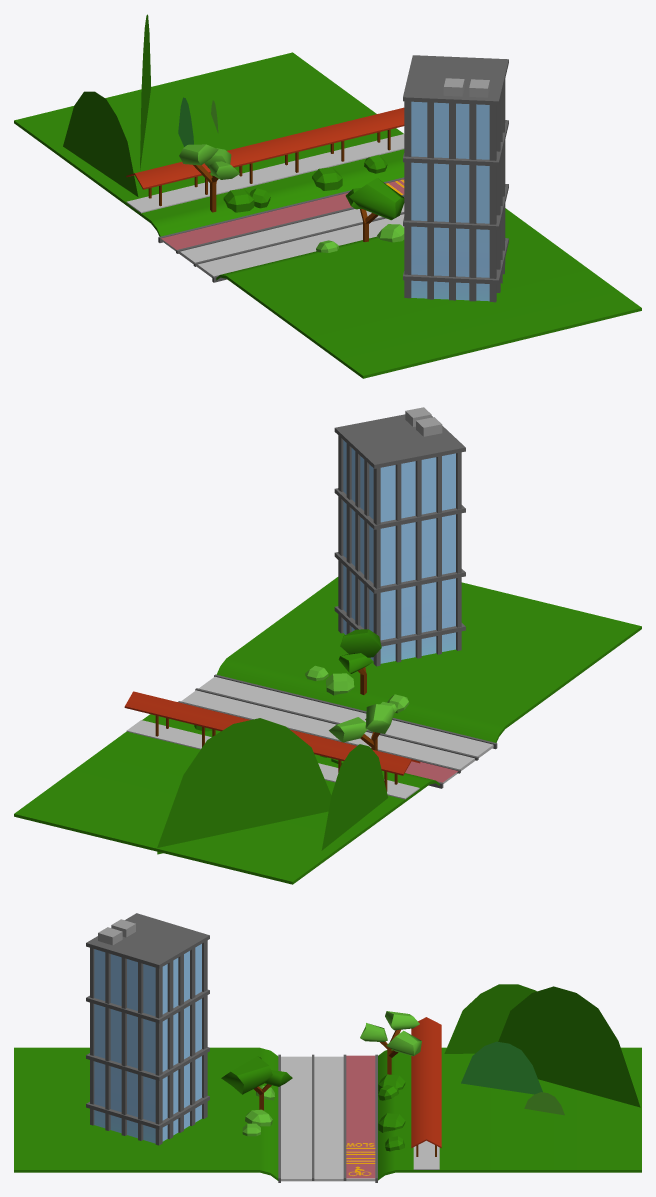
Rendered from Level 3 Chunk 6.fbx.
The picture shows the model from 3 angles, top to bottom: view 1: azimuth 30°, elevation 25°; view 2: azimuth 150°, elevation 25°; view 3: azimuth 270°, elevation 25°; orthographic projection. The views are drawn at different scales.
Visible parts, largest first — view 1: pCube7978, pCube7975, Building_A25, pCube7977, pCube7980, pasted__pCube5673, pCube7963, pCube7952, pCube7943, pCube7944, pasted__pasted__pCube5555, Bushes190 (+5 smaller); view 2: pCube7978, Building_A25, pCube7975, pasted__pasted__pCube5555, pCube7977, pasted__pCube5673, pCube7980, pCube7963, pCube7944, pCube7943, pCube7974, pCube7976; view 3: Building_A25, pCube7978, pCube7975, pasted__pasted__pCube5555, pCube7977, pCube7952, pCube7980, pasted__pCube5673, pasted__pasted__pCube5554, pCube7944, pCube7943, pCube7963 (+3 smaller).
Part boxes in pixels (<box>): pCube7978: <box>216,208,641,378</box>; pCube7975: <box>14,52,404,236</box>; Building_A25: <box>403,55,508,302</box>; pCube7977: <box>162,203,404,277</box>; pCube7980: <box>126,107,404,189</box>; pasted__pCube5673: <box>63,91,138,196</box>; pCube7963: <box>126,134,404,213</box>; pCube7952: <box>161,179,404,249</box>; pCube7943: <box>345,178,404,241</box>; pCube7944: <box>179,144,239,212</box>; pasted__pasted__pCube5555: <box>140,14,151,169</box>; Bushes190: <box>223,188,254,212</box>; pCube7978: <box>216,577,641,742</box>; Building_A25: <box>334,407,465,666</box>; pCube7975: <box>14,714,439,884</box>; pasted__pasted__pCube5555: <box>157,718,331,854</box>; pCube7977: <box>181,676,493,783</box>; pasted__pCube5673: <box>321,744,388,850</box>; pCube7980: <box>124,691,420,775</box>; pCube7963: <box>126,720,419,799</box>; pCube7944: <box>329,702,397,750</box>; pCube7943: <box>338,629,381,694</box>; pCube7974: <box>214,674,497,749</box>; pCube7976: <box>195,688,478,760</box>; Building_A25: <box>86,913,209,1145</box>; pCube7978: <box>14,1047,278,1180</box>; pCube7975: <box>378,1047,641,1180</box>; pasted__pasted__pCube5555: <box>498,986,640,1107</box>; pCube7977: <box>281,1056,375,1181</box>; pCube7952: <box>346,1055,375,1178</box>; pCube7980: <box>411,1017,441,1148</box>; pasted__pCube5673: <box>444,984,536,1053</box>; pasted__pasted__pCube5554: <box>461,1041,542,1094</box>; pCube7944: <box>360,1011,421,1074</box>; pCube7943: <box>221,1056,292,1110</box>; pCube7963: <box>413,1140,439,1169</box>.
Size of the model in its own units: 12.38 by 9.45 by 26.56.
1 material, 1 textured.
